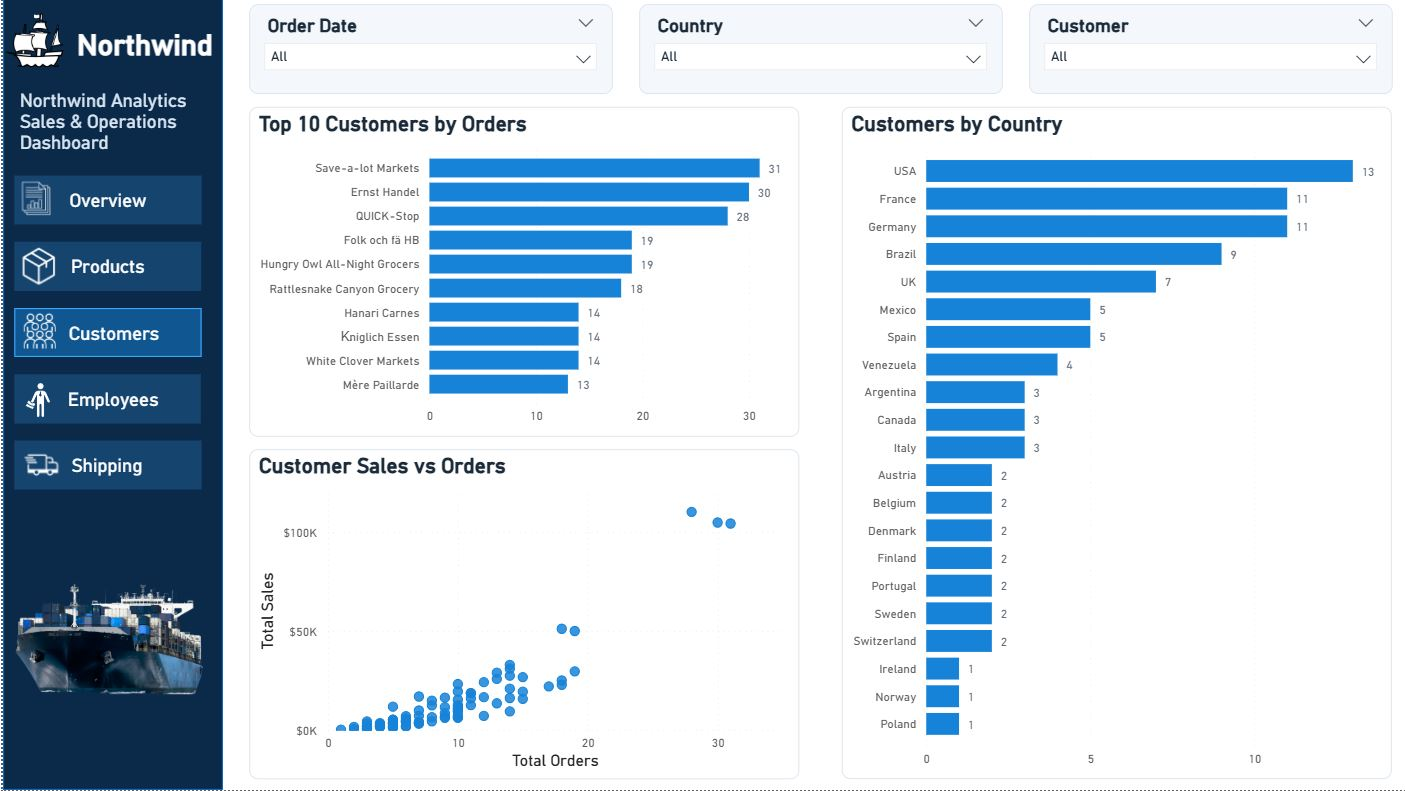

The dashboard page shown, as its layout file describes it:
{"tool":"powerbi","page":{"name":"customers","canvas":[1280,720],"ordinal":2},"visuals":[{"type":"group","id":"g1","title":"Group 1","box":[0,0,233.9,720],"z":0},{"type":"shape","box":[0,0,200,720],"z":0,"group":"g2"},{"type":"slicer","fields":{"Values":["orders.orderDate"]},"box":[224.3,5.7,330,81.4],"z":1000},{"type":"slicer","fields":{"Values":["customers.country"]},"box":[578.6,5.7,330,81.4],"z":2000},{"type":"group","id":"g2","title":"Group 2","box":[0,0,233.9,720],"z":2005,"group":"g1"},{"type":"slicer","fields":{"Values":["customers.companyName"]},"box":[932.9,5.7,330,81.4],"z":3000},{"type":"clusteredBarChart","title":"Top 10 Customers by Orders","fields":{"Y":["Tables_measures.Total Orders"],"Category":["customers.companyName"]},"box":[224.3,98.6,500,300],"z":4000},{"type":"textbox","title":"Northwind","box":[62.6,27.5,171.2,32.5],"z":5000,"group":"g2"},{"type":"clusteredBarChart","title":"Customers by Country","fields":{"Y":["Count(customers.customerID)"],"Category":["customers.country"]},"box":[762.9,98.6,500,611.4],"z":5000},{"type":"image","box":[1.4,11.2,56.2,55],"z":6000,"group":"g2"},{"type":"scatterChart","title":"Customer Sales vs Orders","fields":{"X":["Tables_measures.Total Orders"],"Y":["Tables_measures.Total Sales"],"Category":["customers.customerID"]},"box":[224.3,410,500,300],"z":6000},{"type":"textbox","title":"Northwind Analytics Sales & Operations Dashboard","box":[10.1,82.5,200,96.2],"z":7000,"group":"g2"},{"type":"actionButton","title":"Overview","box":[9.9,161.3,170.3,44.5],"z":8000,"group":"g2"},{"type":"actionButton","box":[10.1,221.3,170,44.7],"z":9000,"group":"g2"},{"type":"actionButton","box":[9.9,281.5,170.3,44.5],"z":10000,"group":"g2"},{"type":"actionButton","title":"Overview","box":[9.9,341.5,169.7,45.2],"z":11000,"group":"g2"},{"type":"actionButton","title":"Overview","box":[9.9,402.2,170.3,44.5],"z":12000,"group":"g2"},{"type":"image","box":[4.9,454,181,266],"z":32000,"group":"g2"}]}

Visuals, with their boxes in screenshot pixels (x1, y1, x2, y2), scaled from the page's 1280x720 canvas onto the 1405x791 screenshot:
"Group 1" group: 0 0 257 790
shape: 0 0 220 790
slicer - orders.orderDate: 246 6 608 96
slicer - customers.country: 635 6 997 96
"Group 2" group: 0 0 257 790
slicer - customers.companyName: 1024 6 1386 96
"Top 10 Customers by Orders" clusteredBarChart: 246 108 795 438
"Northwind" textbox: 69 30 257 66
"Customers by Country" clusteredBarChart: 837 108 1386 780
image: 2 12 63 73
"Customer Sales vs Orders" scatterChart: 246 450 795 780
"Northwind Analytics Sales & Operations Dashboard" textbox: 11 91 231 196
"Overview" actionButton: 11 177 198 226
actionButton: 11 243 198 292
actionButton: 11 309 198 358
"Overview" actionButton: 11 375 197 425
"Overview" actionButton: 11 442 198 491
image: 5 499 204 790
